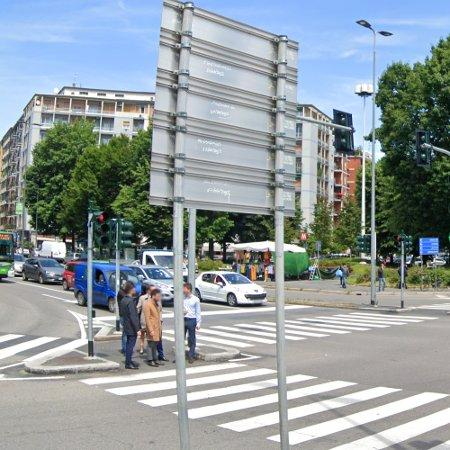crosswalks: (285, 373, 450, 450), (188, 361, 285, 442), (78, 369, 178, 423)
